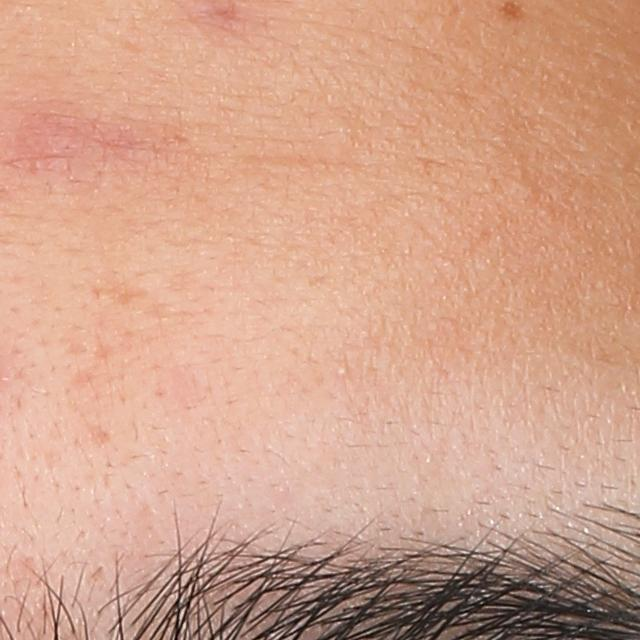atrophic_scar: (91, 273, 143, 305)
comedo: (333, 365, 352, 378)
